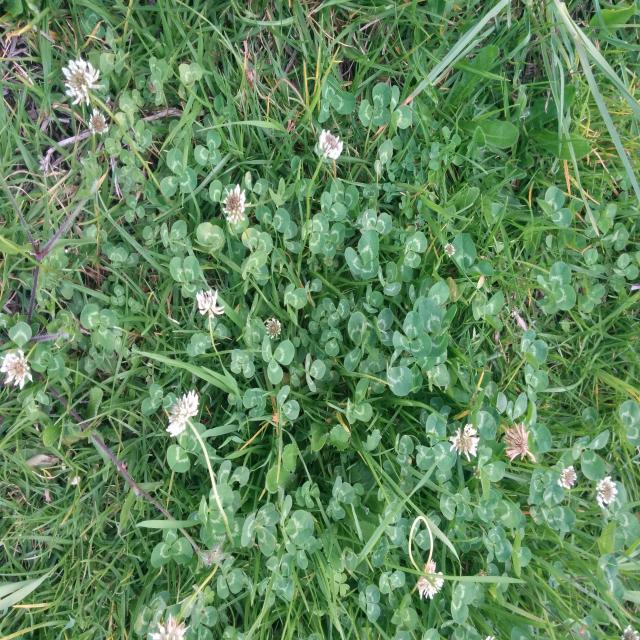Four Leaf Clover: (230, 349, 254, 378)
